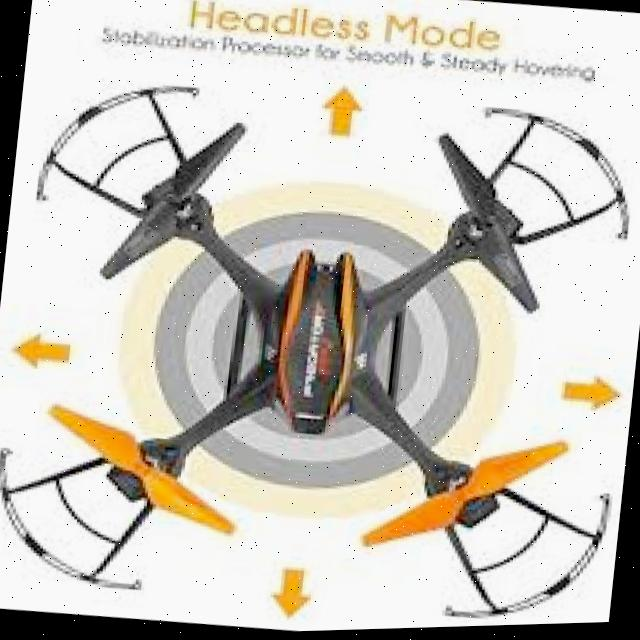drone: (0, 51, 640, 640)
